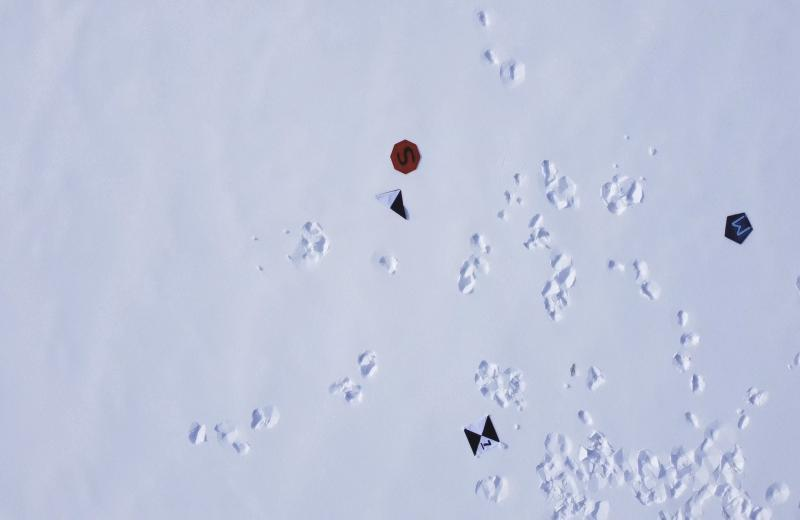Octagon: (384, 138, 425, 178)
Pentagon: (725, 211, 755, 250)
